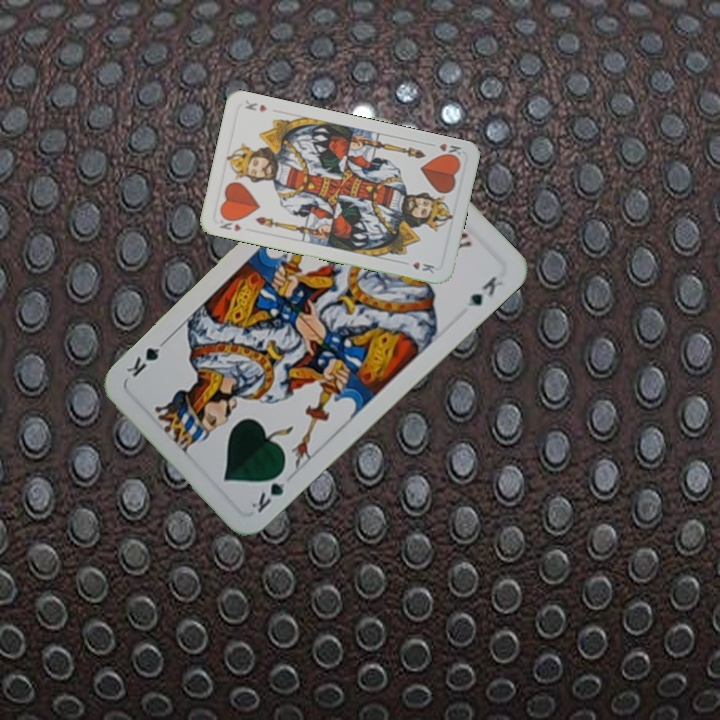GK: (247, 465, 290, 516)
HK: (424, 139, 464, 162), (215, 213, 244, 234)
